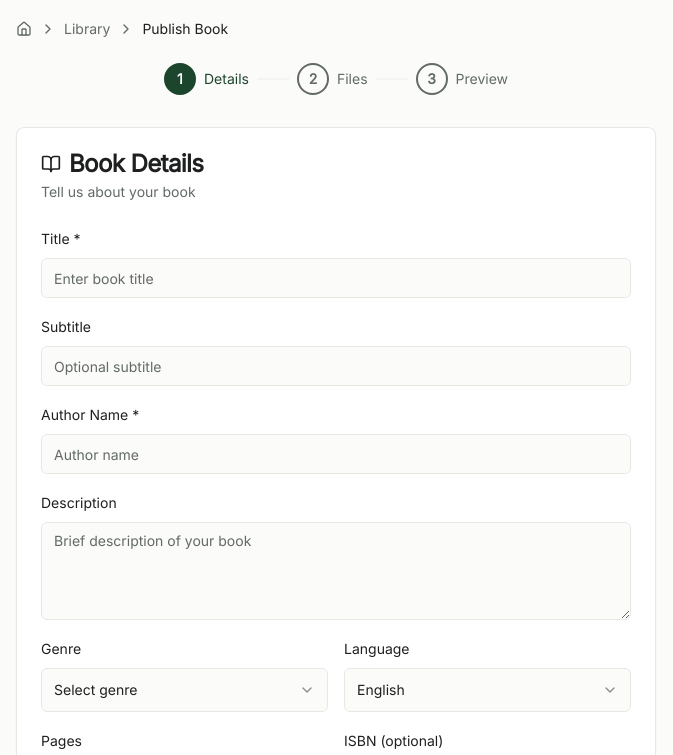
PublishBook › renders Step 1 form and requires Title and Author Name to proceed
This screenshot has width=673, height=755.
Expected: the heading "Book Details" is shown, [41,149,203,178]
Expected: the field labelled "Author Name *" is shown, [41,434,631,474]
Type "My Masterpiece" into the field labelled "Title *" at [336, 278], box [41,258,631,298]
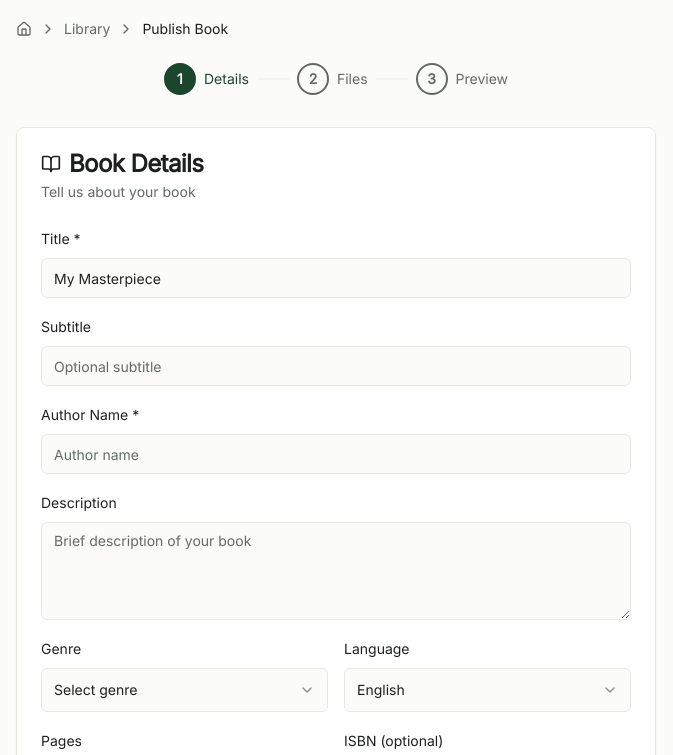
Type "Jane Author" into the field labelled "Author Name *" at [336, 454], box [41,434,631,474]
(page scrolled)
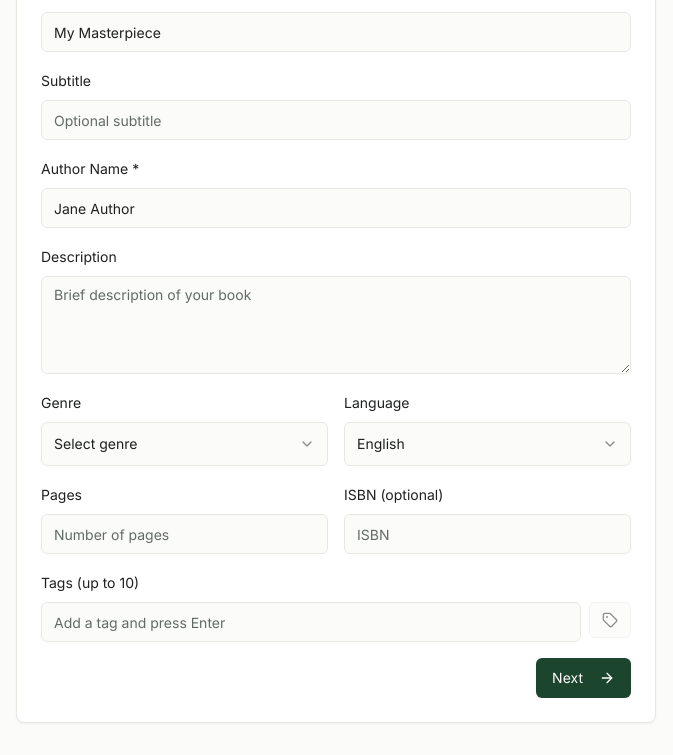
Expected: the button "Next" is enabled
Click the button "Next" at [584, 678], box [536,658,631,698]
(page scrolled)
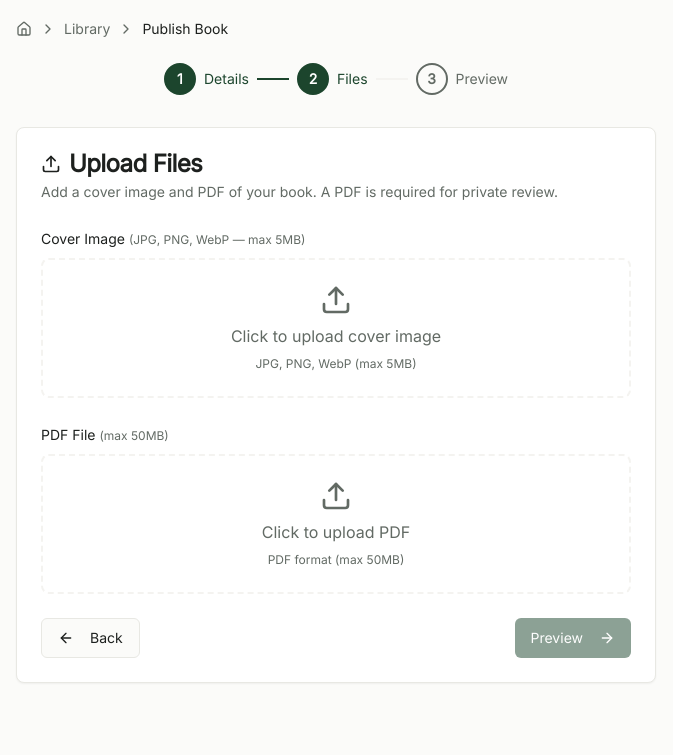
Expected: the heading "Upload Files" is shown, [41,149,202,178]
